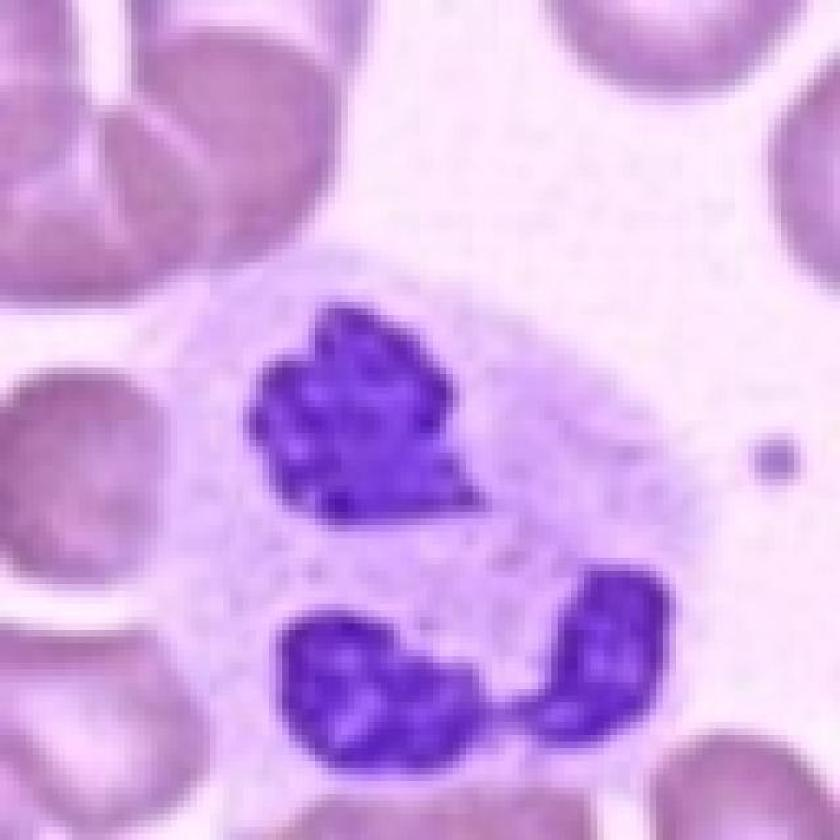neutrophil: (113, 110, 694, 719)
